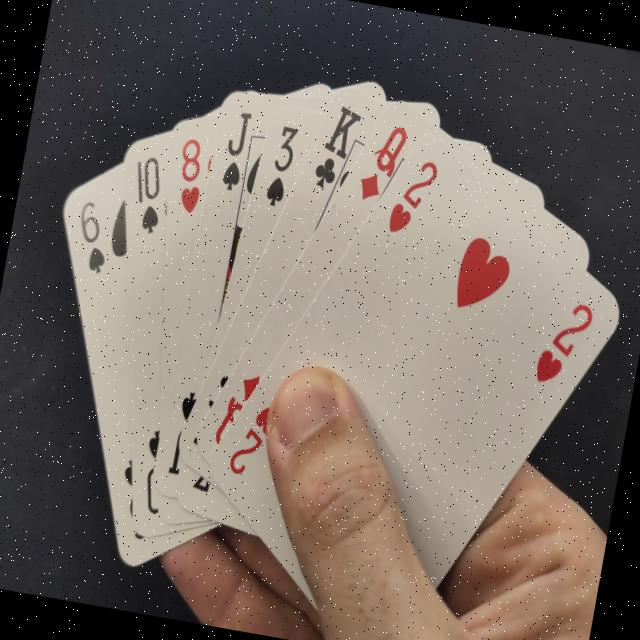10s: (124, 152, 172, 238)
2h: (526, 286, 600, 397), (378, 149, 446, 247), (222, 394, 284, 478)
3s: (258, 115, 304, 217)
6s: (64, 195, 119, 282)
8h: (168, 132, 212, 220)
Js: (216, 102, 256, 198)
Kc: (308, 99, 364, 200)
Qd: (354, 115, 411, 213), (210, 364, 266, 448)
